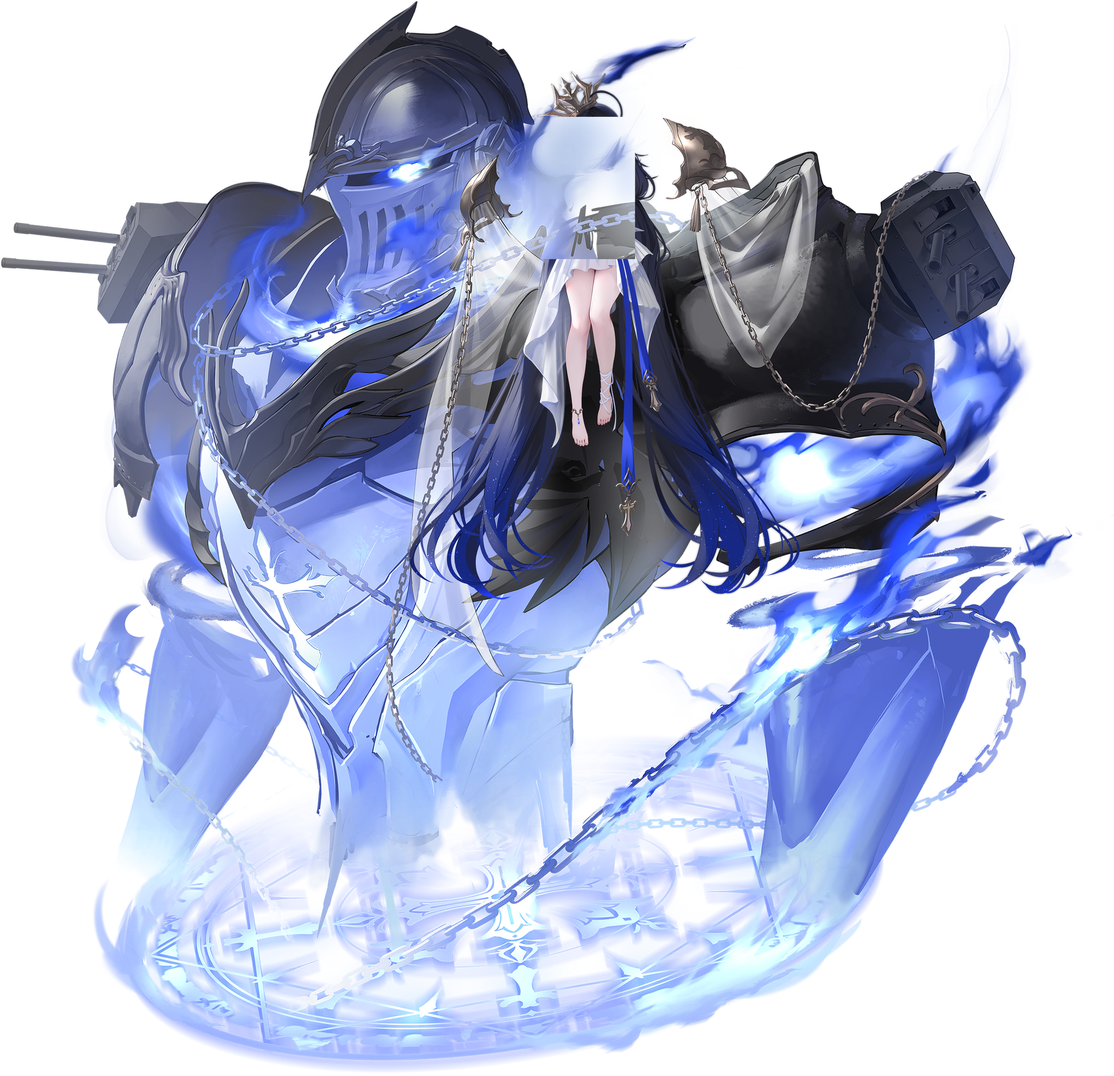person: (23, 1, 801, 1042)
